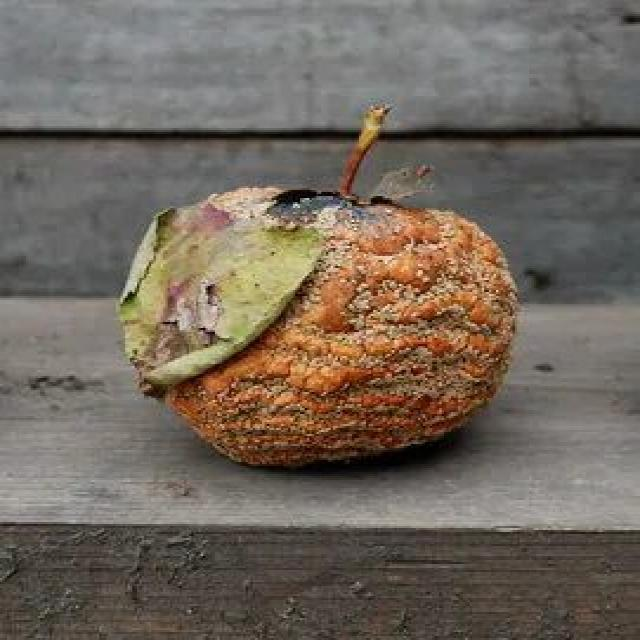Rotten: (105, 183, 513, 472)
